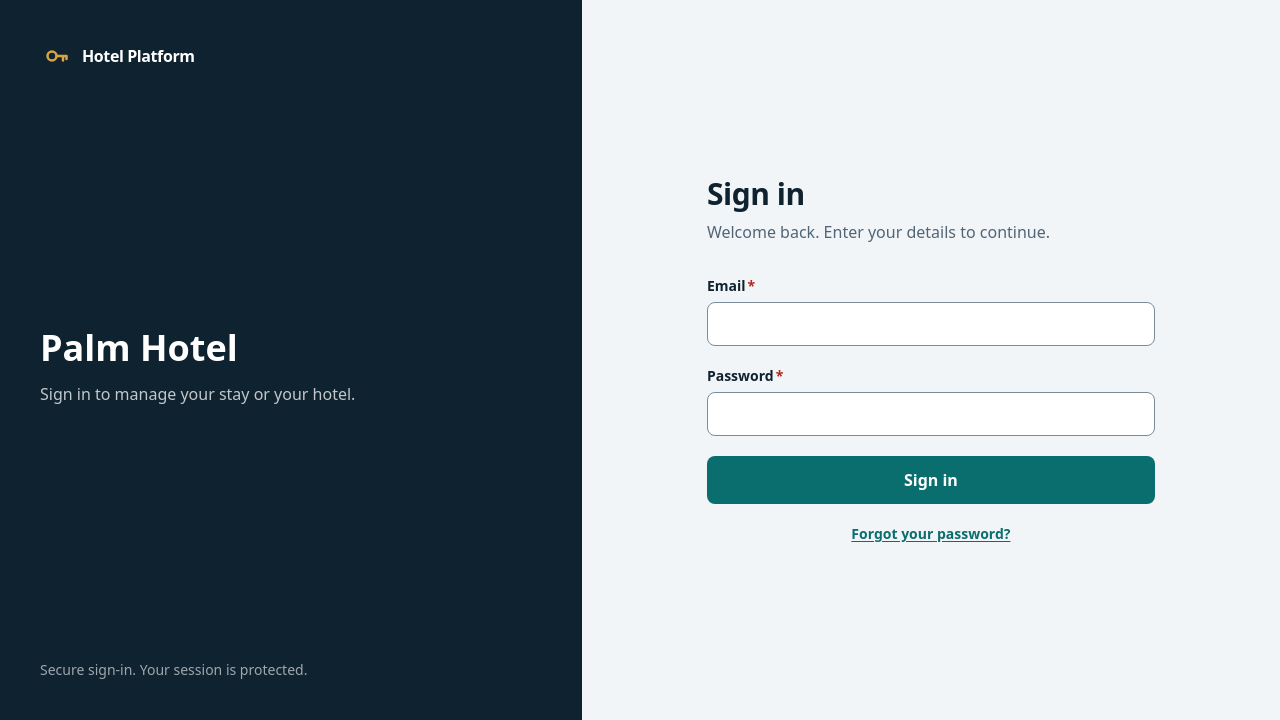
Scenario: LoginPage › explains RATE_LIMITED in plain language and keeps the form usable
Type "ada@palm.com" into the field labelled "Email*" at (931, 324), box [707,302,1155,346]
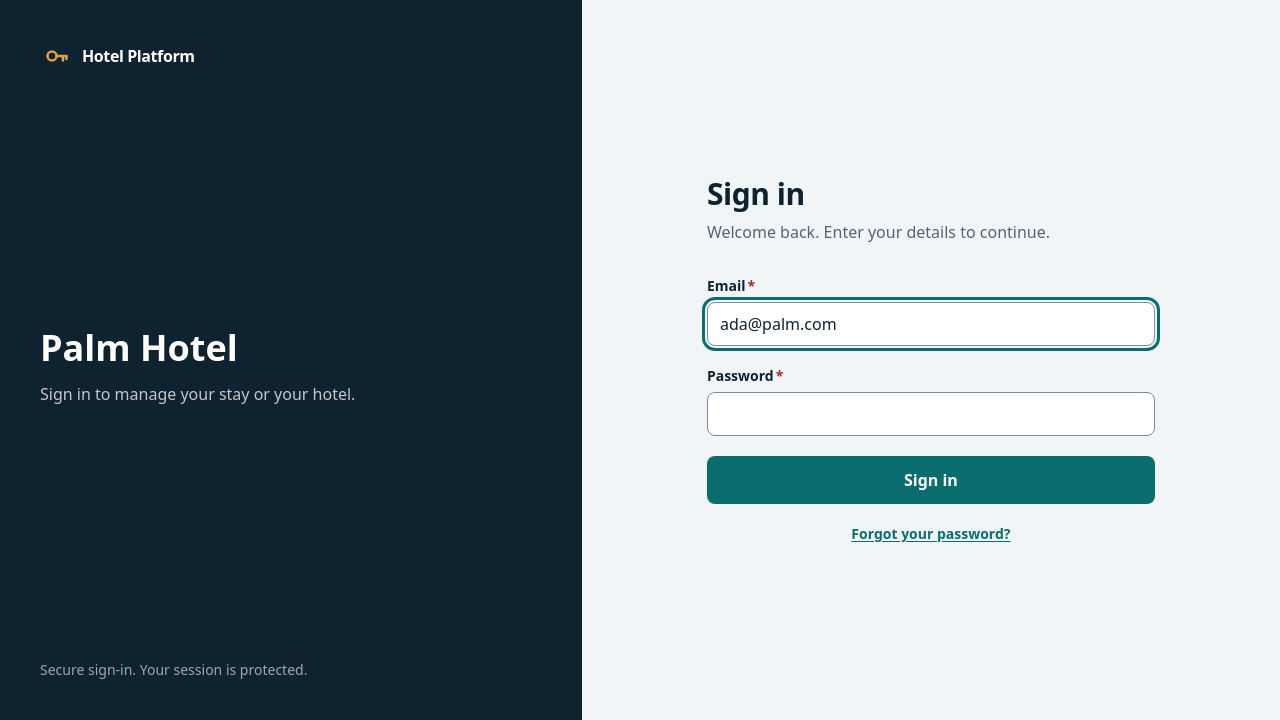
Type "whatever-123" into the password field labelled "Password*" at (931, 414), box [707,392,1155,436]
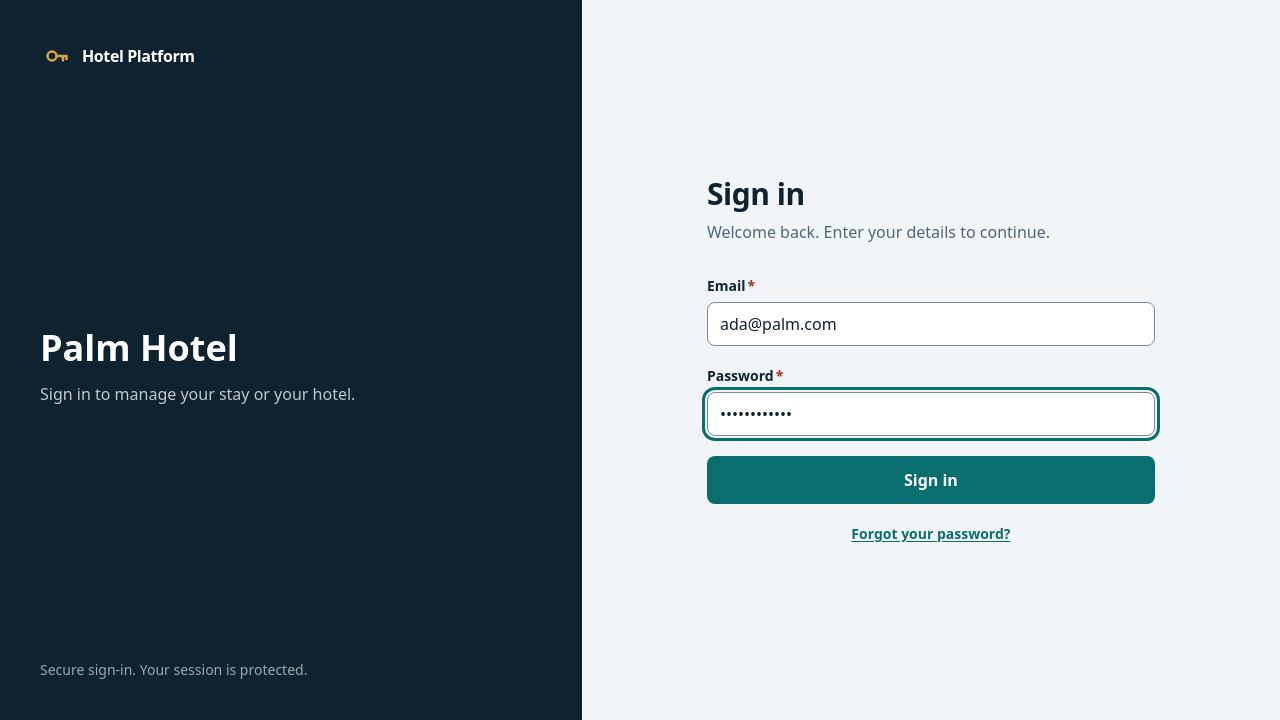
Click the button "Sign in" at (931, 480), box [707,456,1155,504]
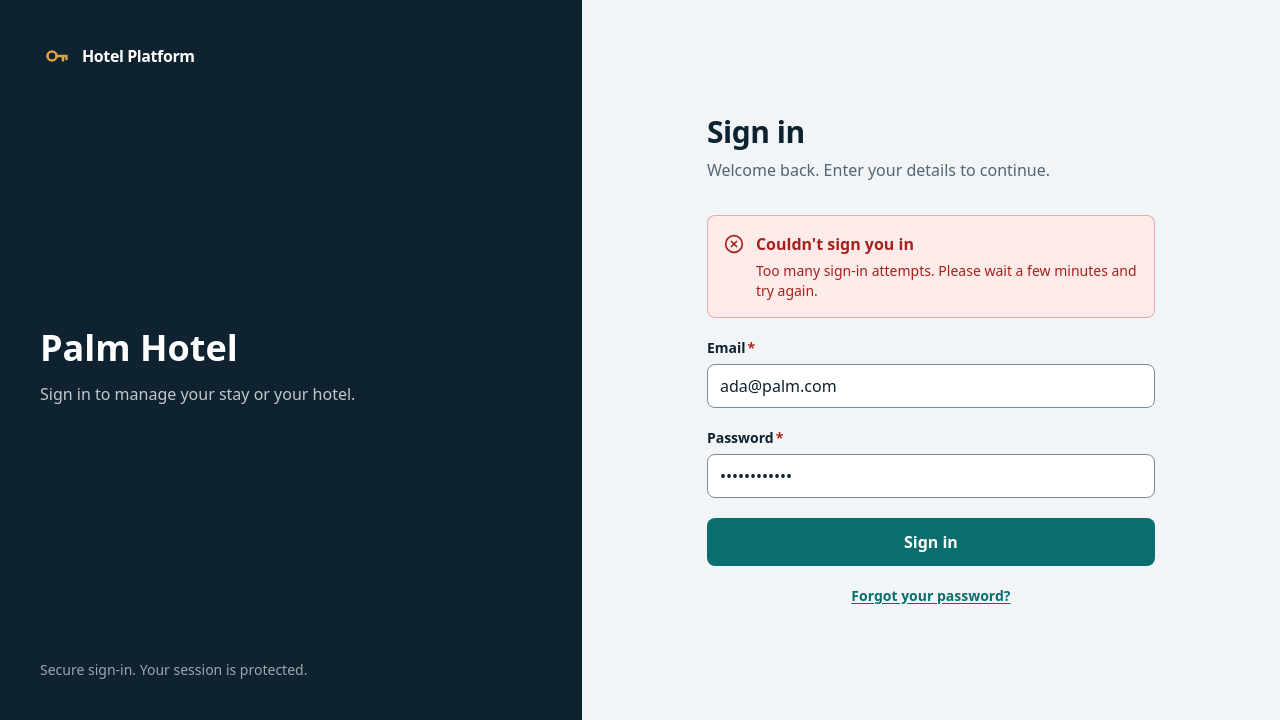
Expected: the button "Sign in" is enabled, [707,518,1155,566]
Now the message shows "Too many sign-in attempts", box [756,261,1137,300]
